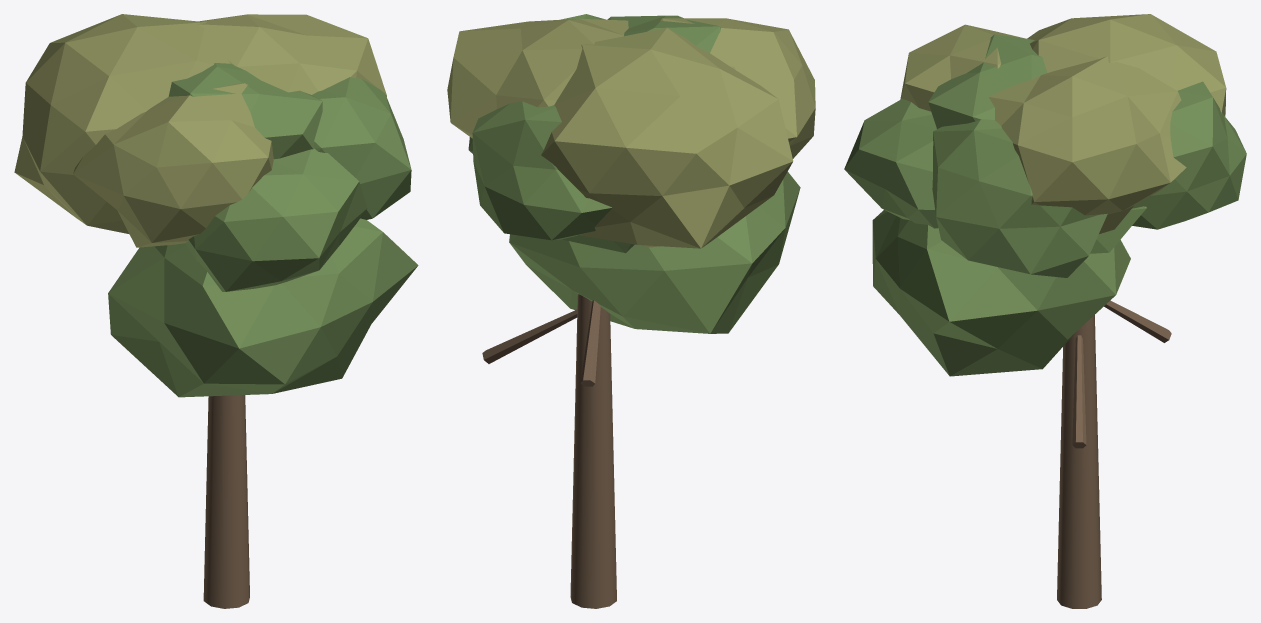
File: tree_1.glb
3 renders of one model, left to right at view 1: azimuth 30°, elevation 25°; view 2: azimuth 150°, elevation 25°; view 3: azimuth 270°, elevation 25°, orthographic. The views are drawn at different scales.
Parts seen in each view (by area): view 1: Leaves7, Leaves6, Leaves0, Leaves4, Leaves3, Trunk, Leaves2, Leaves8; view 2: Leaves6, Leaves7, Leaves1, Leaves3, Trunk, Leaves0, Leaves8, Branch0, Branch1; view 3: Leaves7, Leaves3, Leaves2, Trunk, Leaves6, Leaves1, Leaves4, Leaves8, Leaves0, Branch0, Leaves5, Branch1.
Boxes of the visible parts, x1,y1,x2,y2 form: Leaves7: [108, 218, 418, 397]; Leaves6: [14, 14, 230, 233]; Leaves0: [73, 83, 273, 247]; Leaves4: [185, 148, 367, 291]; Leaves3: [197, 14, 386, 96]; Trunk: [203, 395, 249, 608]; Leaves2: [312, 77, 411, 219]; Leaves8: [168, 63, 322, 159]; Leaves6: [541, 28, 793, 248]; Leaves7: [509, 171, 800, 333]; Leaves1: [472, 101, 634, 253]; Leaves3: [447, 18, 628, 138]; Trunk: [570, 294, 616, 608]; Leaves0: [659, 18, 815, 158]; Leaves8: [607, 15, 720, 52]; Branch0: [482, 309, 577, 363]; Branch1: [580, 300, 600, 386]; Leaves7: [872, 210, 1130, 376]; Leaves3: [989, 56, 1186, 233]; Leaves2: [932, 119, 1107, 277]; Trunk: [1057, 315, 1101, 608]; Leaves6: [1027, 14, 1226, 116]; Leaves1: [1132, 81, 1246, 229]; Leaves4: [844, 99, 938, 228]; Leaves8: [928, 34, 1047, 128]; Leaves0: [900, 24, 1025, 111]; Branch0: [1072, 335, 1086, 448]; Leaves5: [1090, 206, 1146, 253]; Branch1: [1104, 300, 1171, 342].
Bounding box in the file's own units: 3.56 × 5.9 × 3.94.
